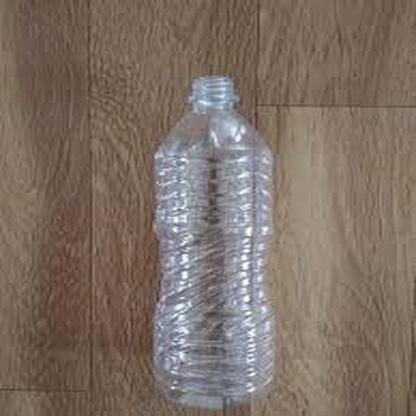plastic bottle: (155, 75, 279, 407)
